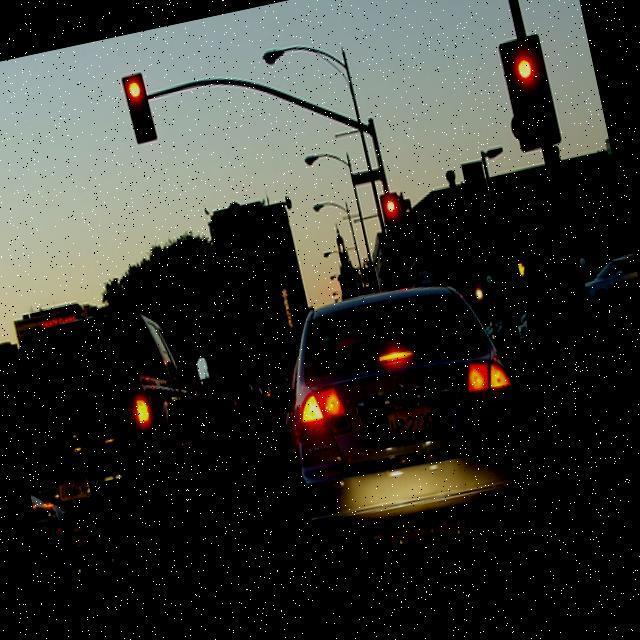fire_hydrant: (610, 350, 640, 425)
